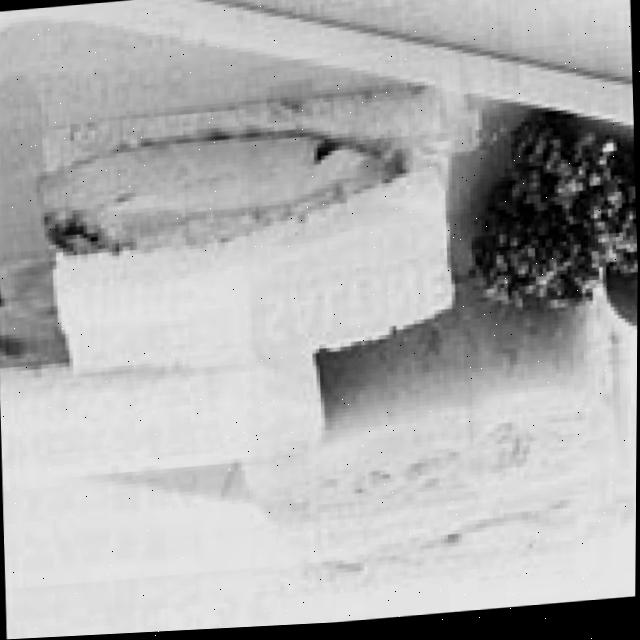三明治: (0, 74, 639, 640)
